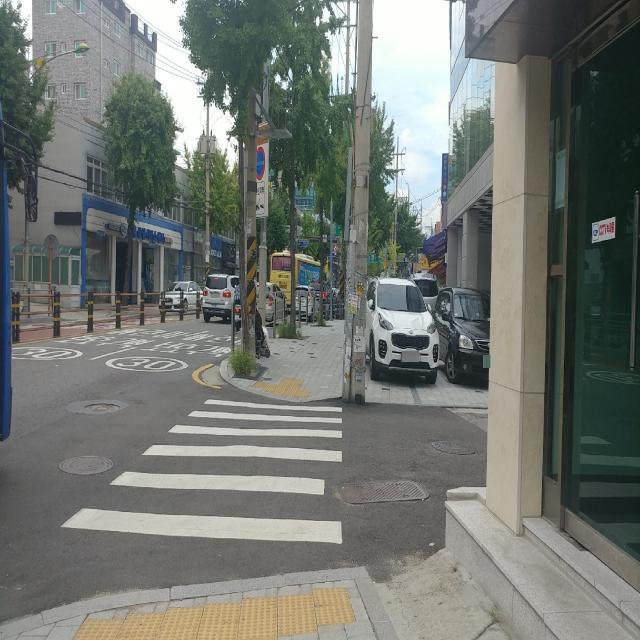횡단보도: (61, 398, 343, 544)
